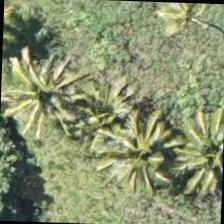Kelapa_Sawit: (0, 50, 93, 144), (83, 108, 176, 201), (156, 114, 223, 207)
